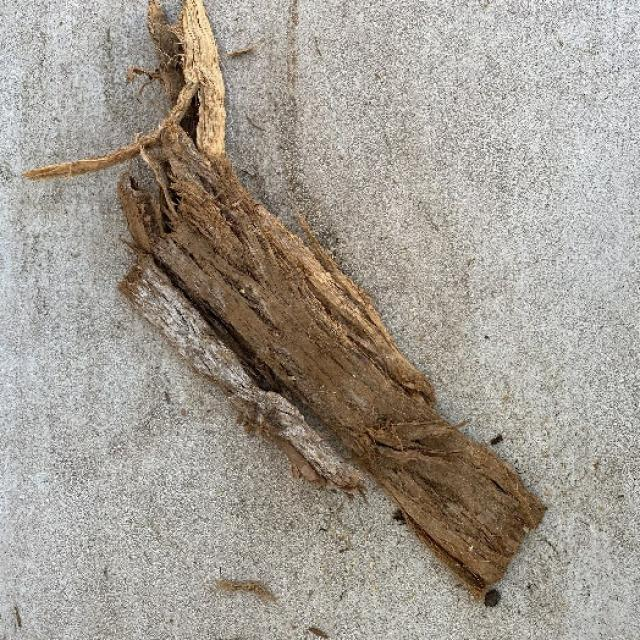organik: (85, 23, 548, 592)
